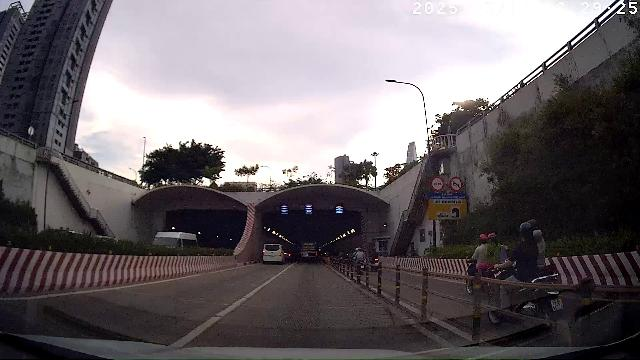128-cam-su-dung-coi: (448, 176, 464, 192)
